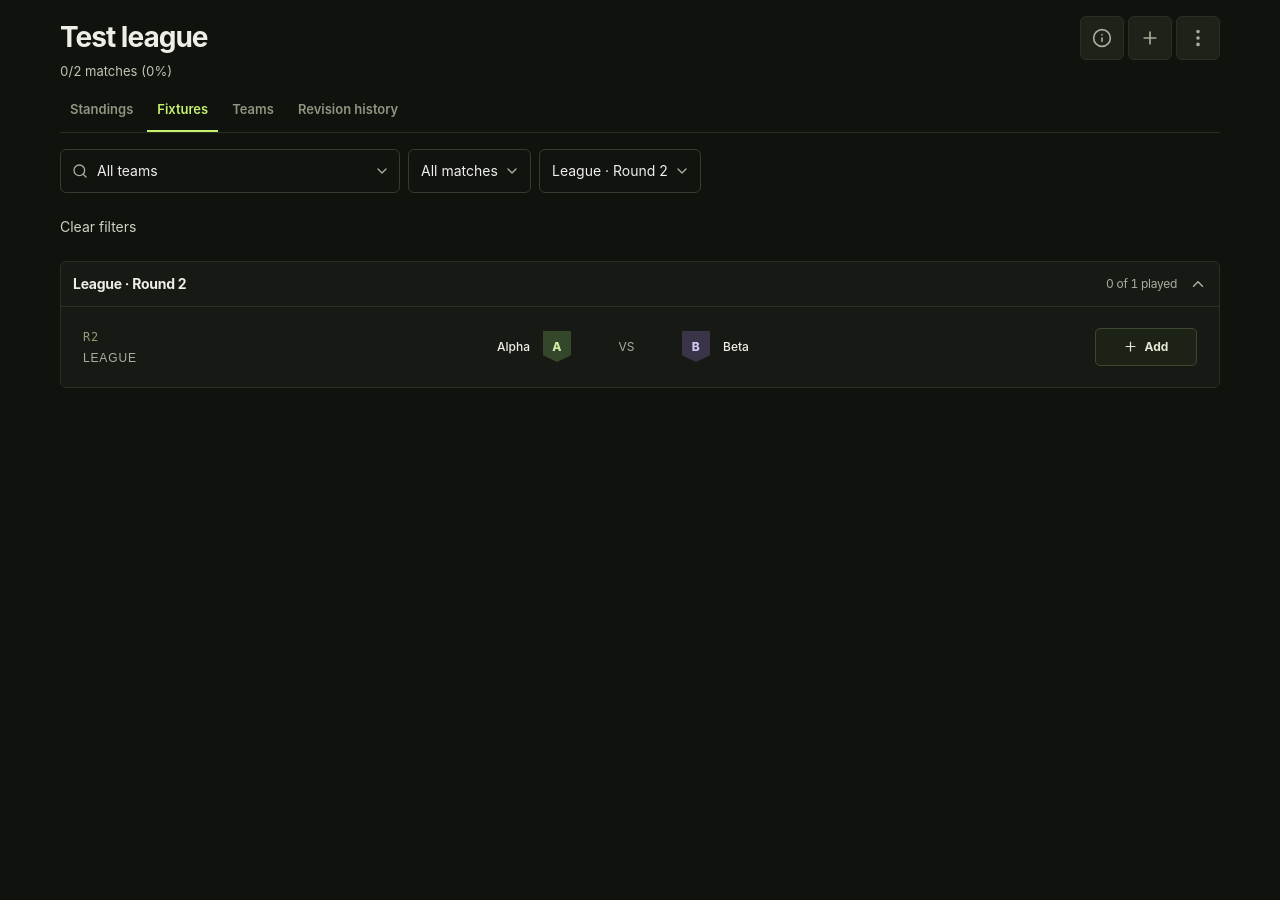
it: result entry respects a selected round and does not offer next outside that round
The image size is (1280, 900).
Click the button with aria-label "Add result: Alpha vs Beta, round 2": (1146, 347) [1095, 328, 1197, 366]
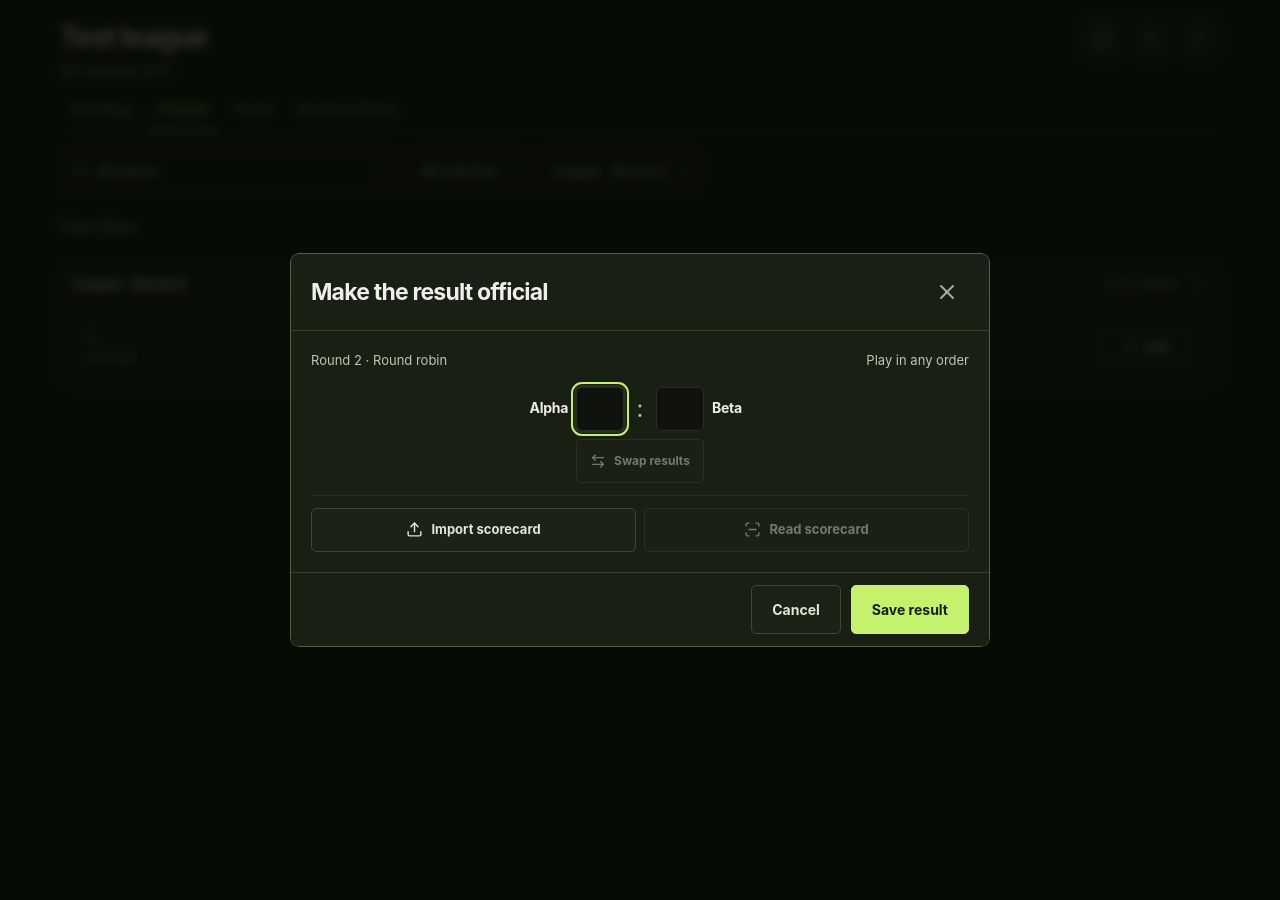
Check: the text "Round 2 · Round robin" is shown, box [311, 351, 447, 371]
